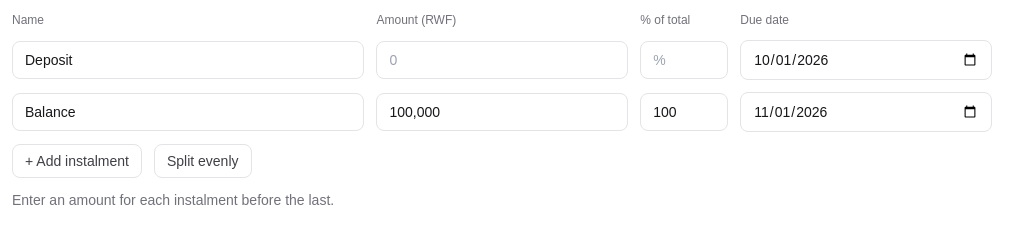
Test: InstallmentsEditor › shows the balance as a percentage too
This screenshot has width=1009, height=225.
Type "25000" into the field named "Amount for instalment 1". click: (502, 60)
box: x1=376 y1=41 x2=628 y2=79
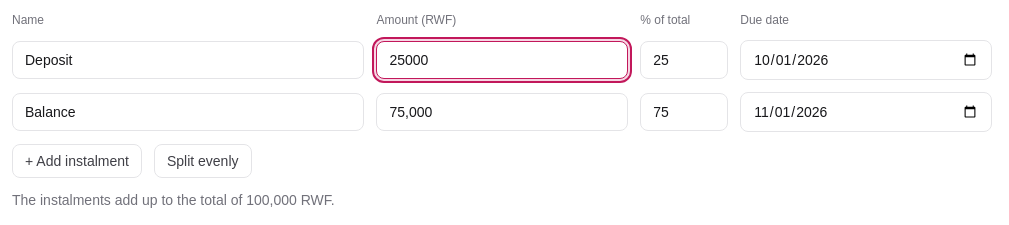
Now the field named "Percent for instalment 2" holds "75", box x1=640 y1=93 x2=728 y2=131
